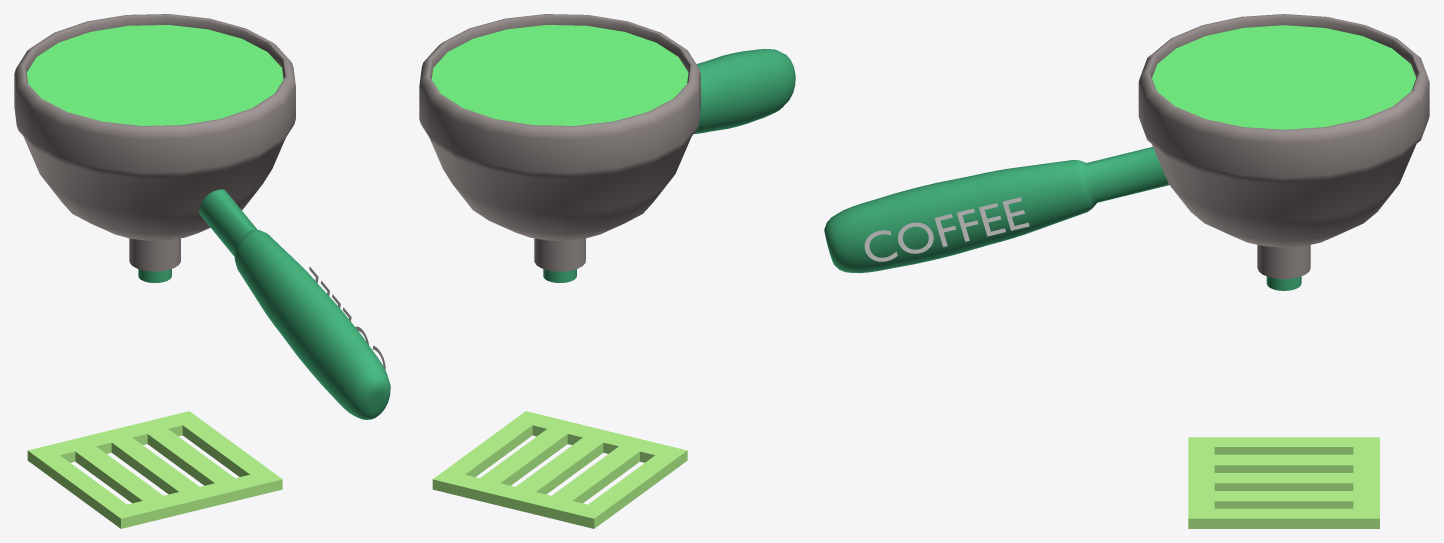
The model's file is kahve_dokucu.fbx.
The picture shows the model from 3 angles, left to right: view 1: azimuth 30°, elevation 25°; view 2: azimuth 150°, elevation 25°; view 3: azimuth 270°, elevation 25°; orthographic projection. The views are drawn at different scales.
Visible parts, largest first — view 1: Cylinder, Cylinder.003, Cube, Cylinder.001; view 2: Cylinder, Cylinder.003, Cube, Cylinder.001; view 3: Cylinder, Cylinder.003, Cylinder.001, Cube, Text.
Part boxes in pixels (bbox=[...]): Cylinder: bbox=[14, 14, 295, 271]; Cylinder.003: bbox=[27, 25, 283, 125]; Cube: bbox=[27, 411, 282, 528]; Cylinder.001: bbox=[199, 189, 390, 419]; Cylinder: bbox=[419, 14, 700, 271]; Cylinder.003: bbox=[431, 25, 688, 125]; Cube: bbox=[432, 411, 687, 528]; Cylinder.001: bbox=[694, 49, 795, 133]; Cylinder: bbox=[1138, 14, 1429, 279]; Cylinder.003: bbox=[1152, 25, 1416, 129]; Cylinder.001: bbox=[824, 147, 1168, 273]; Cube: bbox=[1188, 437, 1379, 528]; Text: bbox=[864, 197, 1029, 261].
Size of the model in its own units: 200 by 315 by 416.
